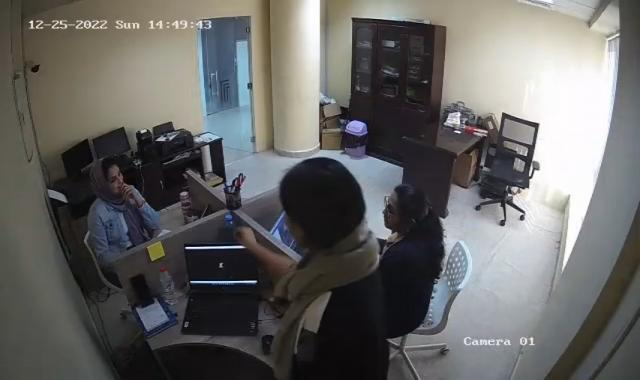no_hairnet: (280, 159, 364, 242), (387, 183, 434, 235), (88, 161, 124, 196)
